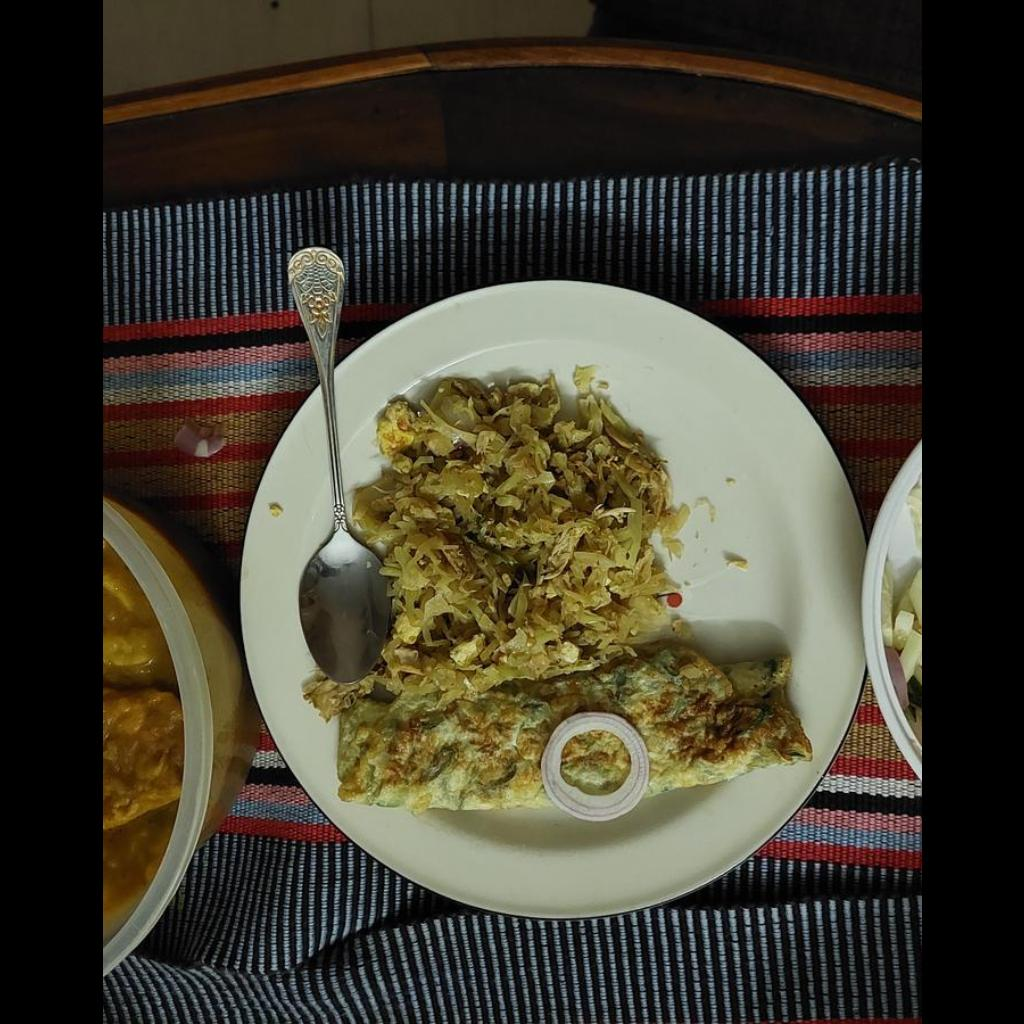cabbage: (351, 375, 687, 699)
egg-poached: (334, 641, 819, 807)
fish: (102, 543, 183, 942)
vaji: (350, 366, 690, 680)
